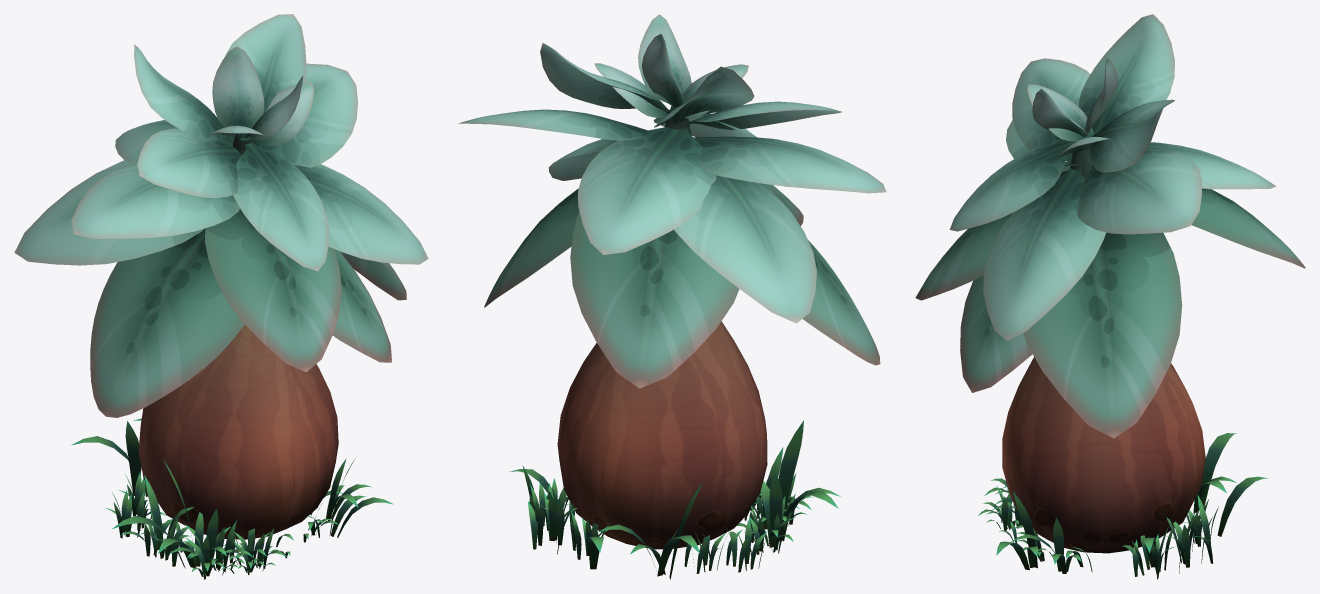
Rendered from Tree3.fbx.
The picture shows the model from 3 angles, left to right: view 1: azimuth 30°, elevation 25°; view 2: azimuth 150°, elevation 25°; view 3: azimuth 270°, elevation 25°; orthographic projection. The views are drawn at different scales.
Parts seen in each view (by area): view 1: polySurface493; view 2: polySurface493; view 3: polySurface493.
Boxes of the visible parts, x1=… form: polySurface493: x1=14, y1=14, x2=428, y2=579; polySurface493: x1=458, y1=14, x2=886, y2=579; polySurface493: x1=915, y1=14, x2=1305, y2=579.
Size of the model in its own units: 3.53 by 4.64 by 3.35.
